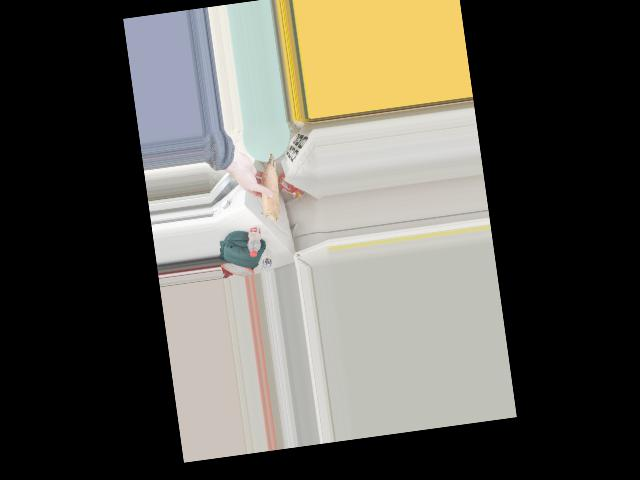sweet_potato: (251, 151, 284, 225)
